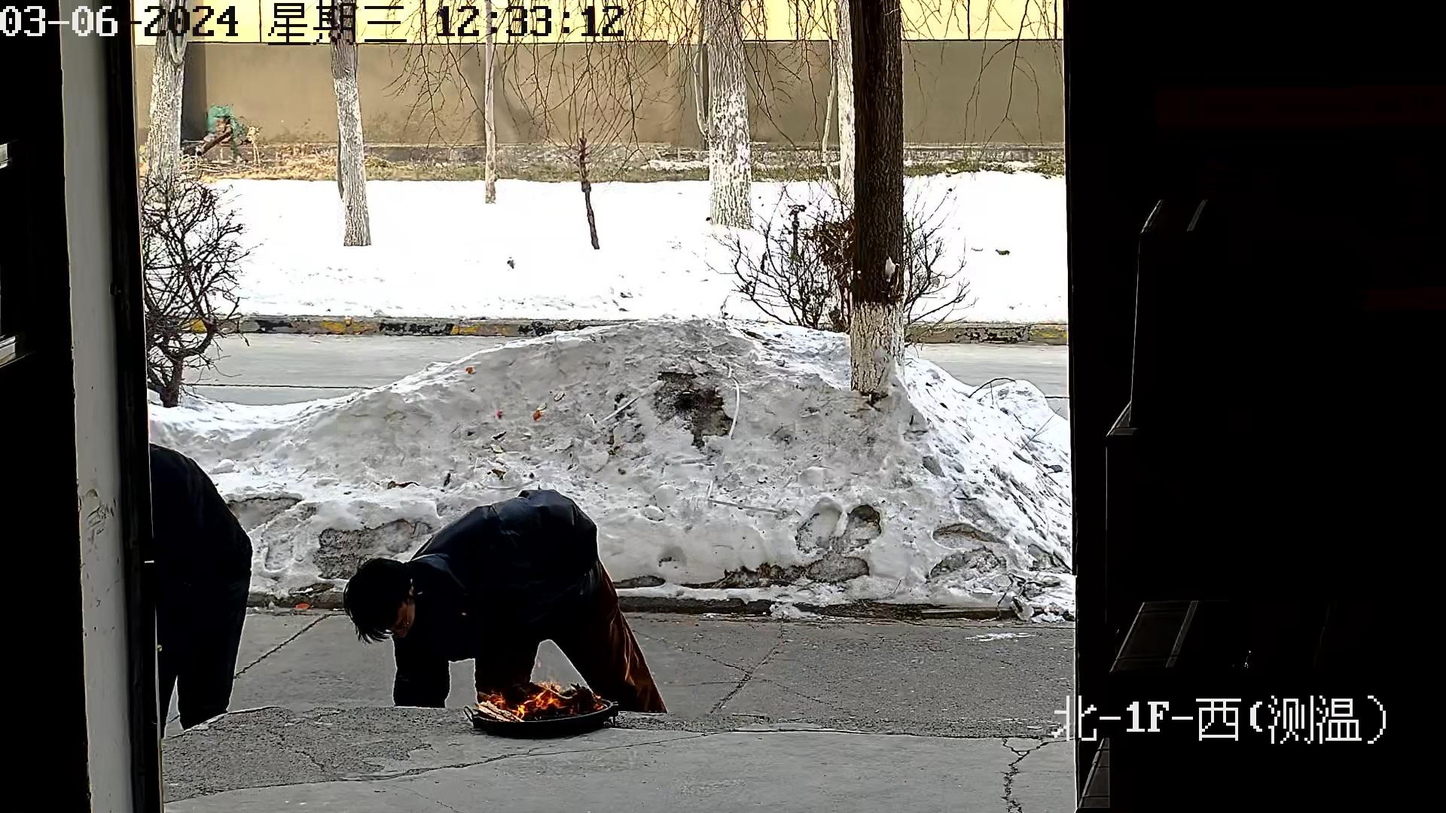fire: (477, 682, 609, 722)
